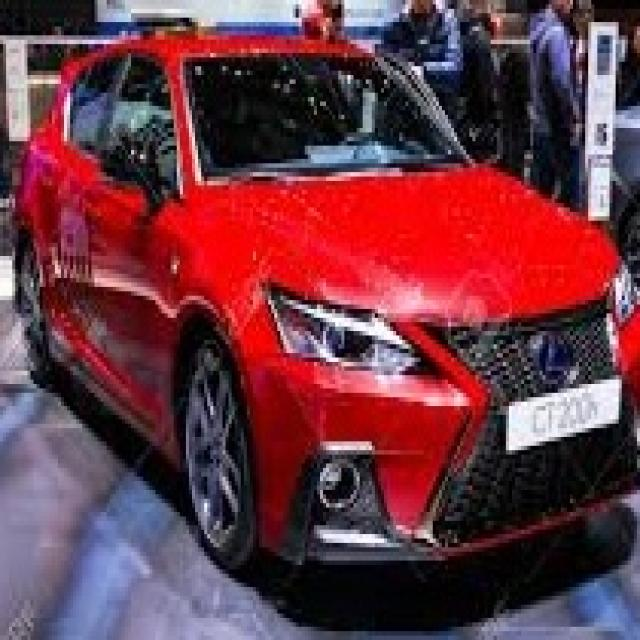red: (18, 26, 640, 548)
